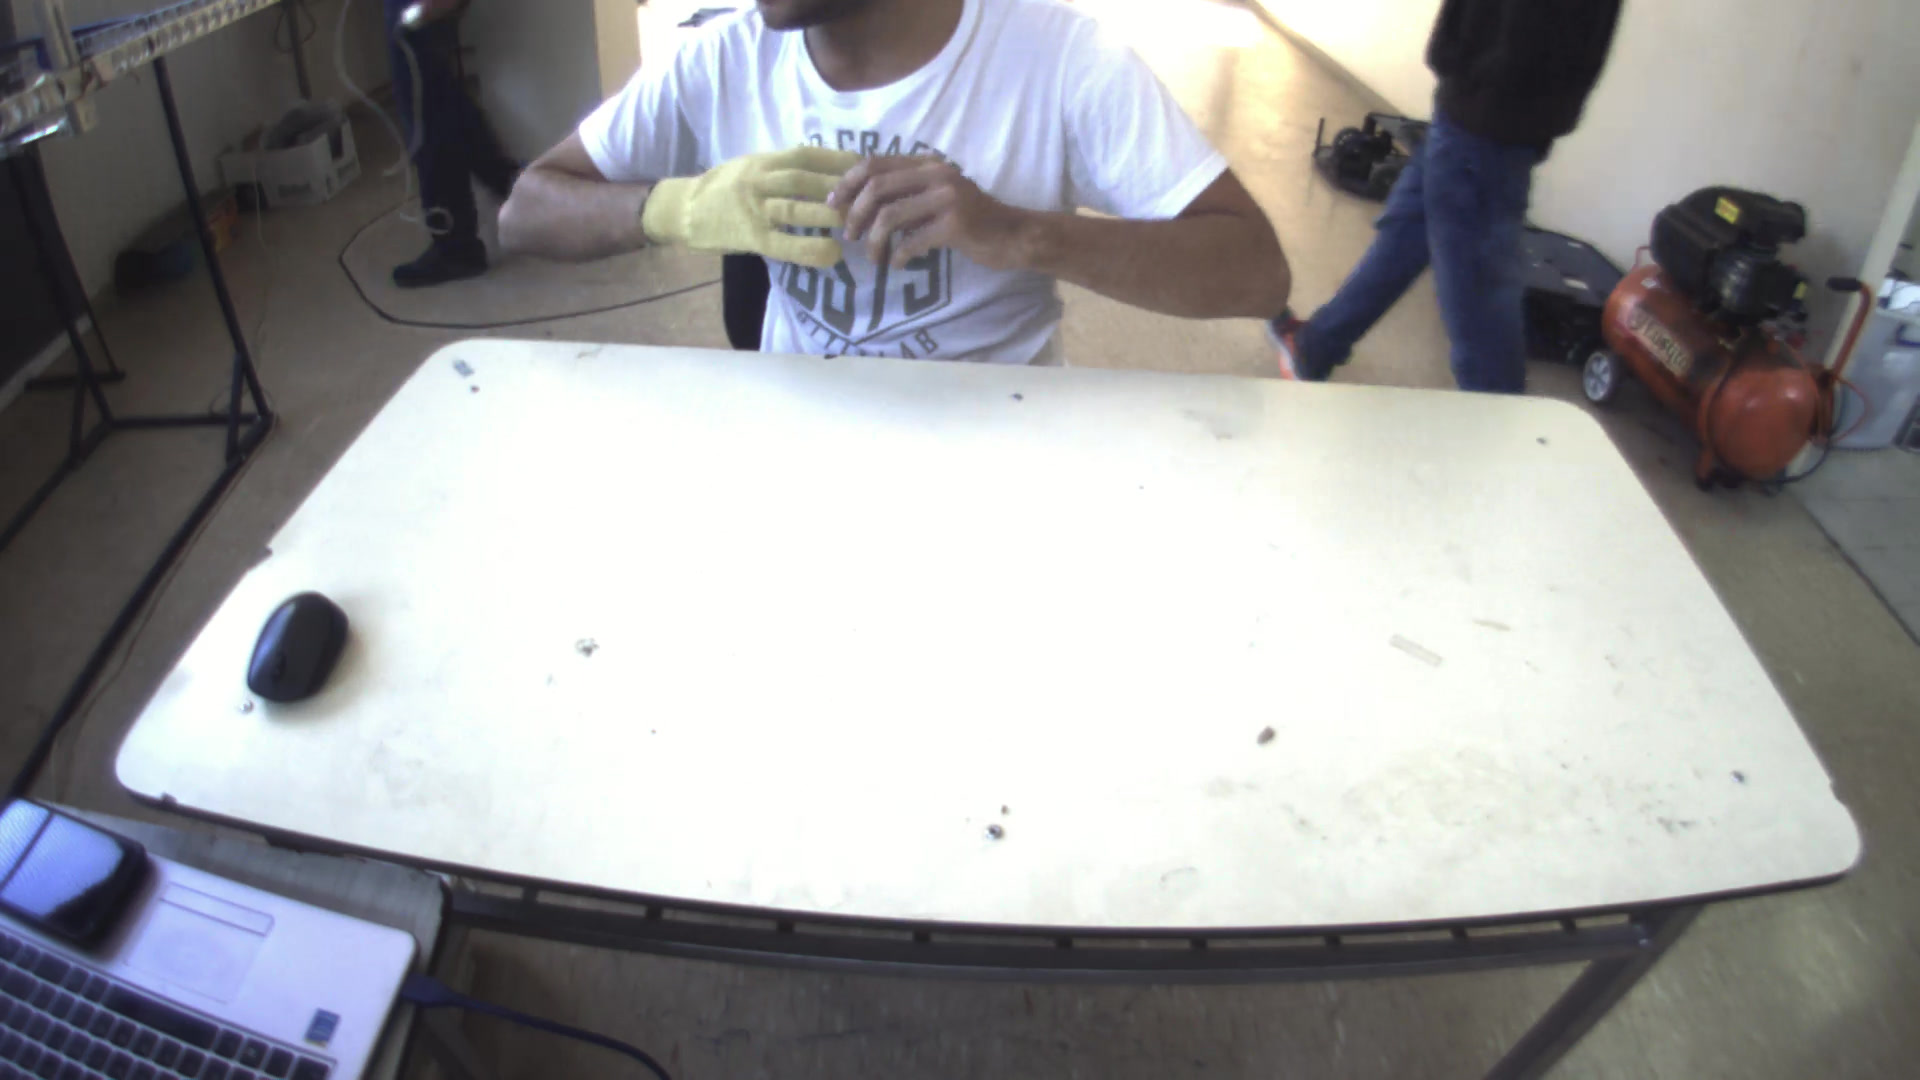hand: (636, 127, 856, 270), (843, 135, 994, 268)
